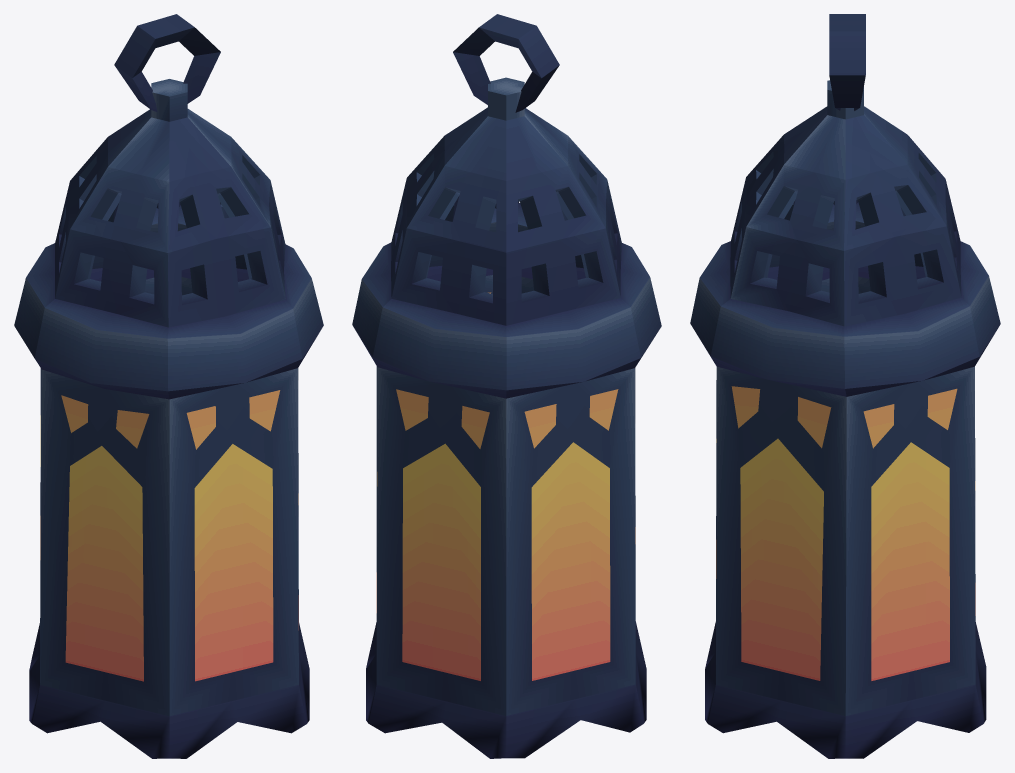
Rendered from Lantern_Hex.fbx.
3 views of the same model, side by side, from view 1: azimuth 30°, elevation 25°; view 2: azimuth 150°, elevation 25°; view 3: azimuth 270°, elevation 25° (orthographic).
Visible parts, largest first — view 1: pCylinder2; view 2: pCylinder2; view 3: pCylinder2.
Boxes of the visible parts, x1,y1,x2,y2 form: pCylinder2: (14, 14, 323, 758); pCylinder2: (352, 14, 661, 758); pCylinder2: (690, 14, 1000, 758).
Size of the model in its own units: 1.51 by 3.5 by 1.47.
